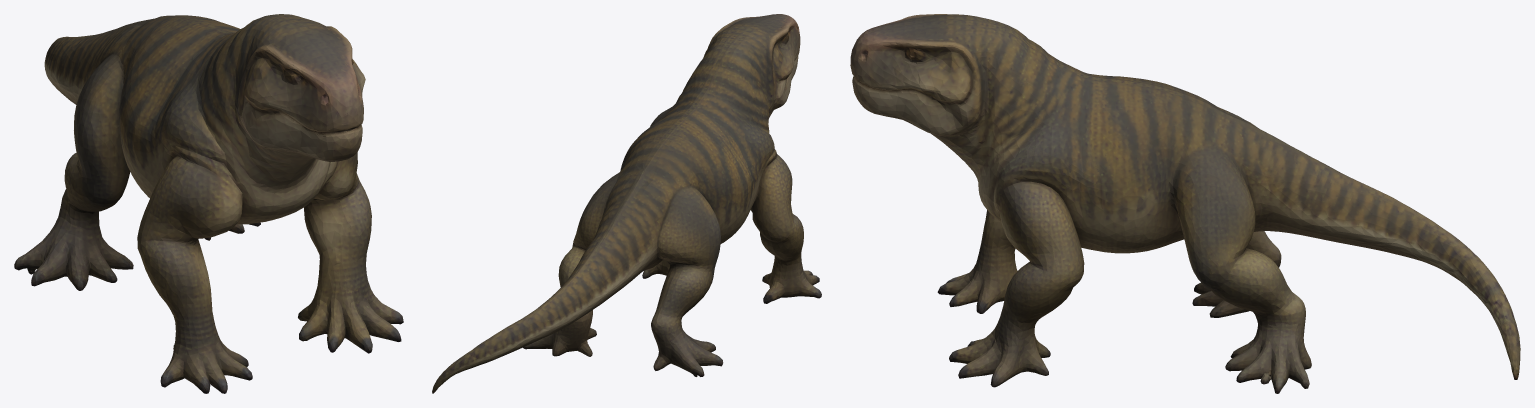
3 renders of one model, left to right at view 1: azimuth 30°, elevation 25°; view 2: azimuth 150°, elevation 25°; view 3: azimuth 270°, elevation 25°, orthographic. The views are drawn at different scales.
Visible parts, largest first — view 1: world; view 2: world; view 3: world.
Part boxes in pixels (x1,y1,x2,y2): world: (14, 14, 403, 393); world: (432, 14, 821, 393); world: (850, 14, 1520, 393).
Bounding box in the file's own units: 0.4082 × 0.5207 × 0.9987.
1 material, 1 textured.
